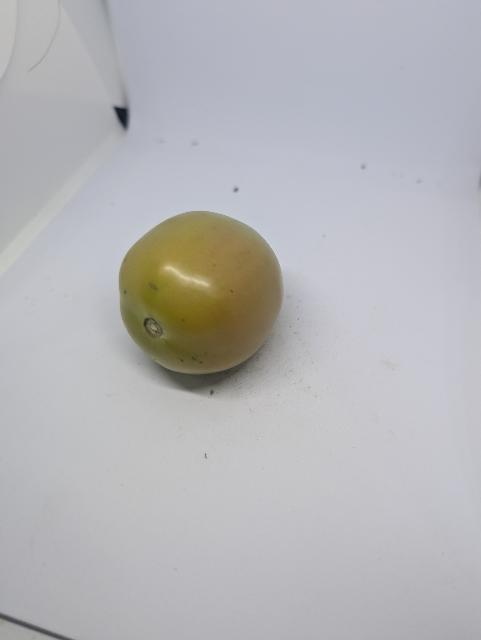breaker: (114, 207, 288, 387)
